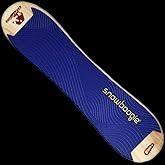Snowboard: (0, 0, 164, 163)
